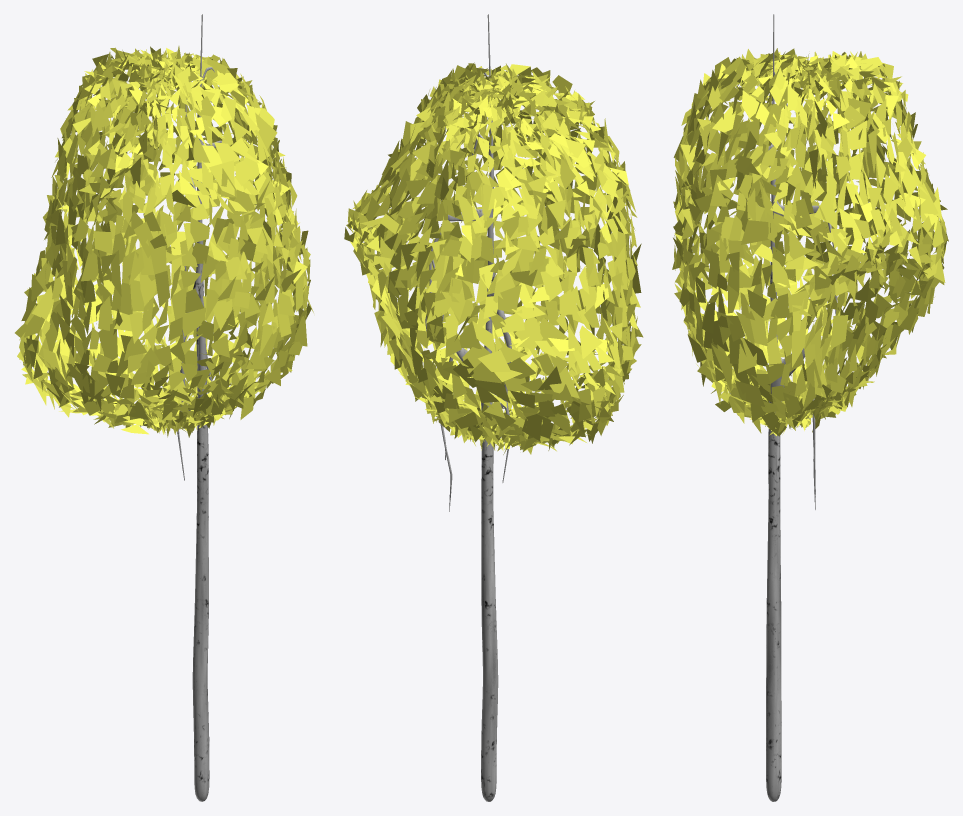
Rendered from Leaves54.002.fbx.
3 renders of one model, left to right at view 1: azimuth 30°, elevation 25°; view 2: azimuth 150°, elevation 25°; view 3: azimuth 270°, elevation 25°, orthographic.
Visible parts, largest first — view 1: Leaves54.002; view 2: Leaves54.002; view 3: Leaves54.002.
Part boxes in pixels (x1=…): Leaves54.002: x1=15, y1=14, x2=313, y2=801; Leaves54.002: x1=344, y1=14, x2=643, y2=801; Leaves54.002: x1=672, y1=14, x2=948, y2=801.
Size of the model in its own units: 903 by 2574 by 820.
Materials: 2 (1 with a texture image).
